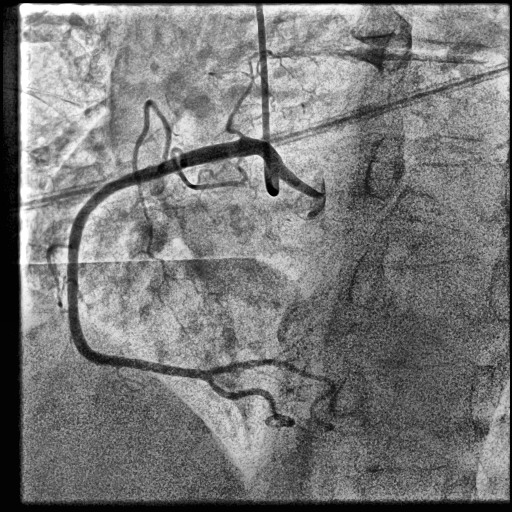pborca: (210, 359, 334, 430)
pda: (207, 380, 279, 415)
rca: (67, 136, 275, 381)
